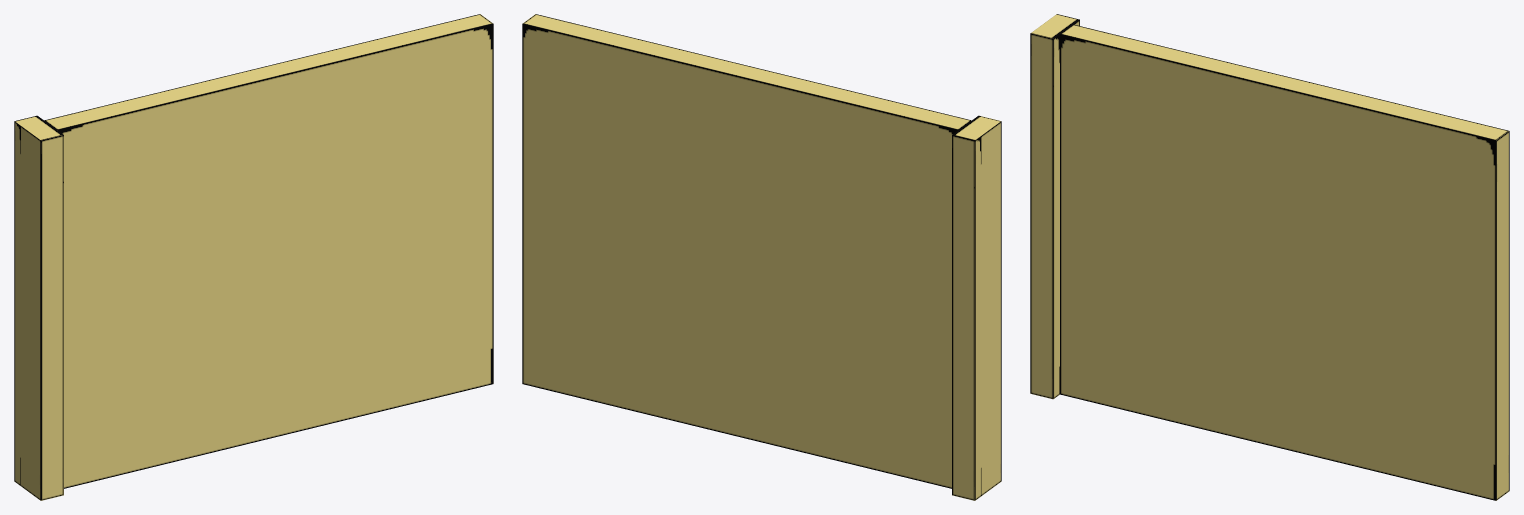
Rendered from Wall.fbx.
The picture shows the model from 3 angles, left to right: view 1: azimuth 30°, elevation 25°; view 2: azimuth 150°, elevation 25°; view 3: azimuth 330°, elevation 25°; orthographic projection.
Parts seen in each view (by area): view 1: cube; view 2: cube; view 3: cube.
Boxes of the visible parts, x1,y1,x2,y2 form: cube: (14,14,493,500); cube: (522,14,1001,500); cube: (1030,14,1509,500).
Size of the model in its own units: 500 by 375 by 50.
1 material, 1 textured.
